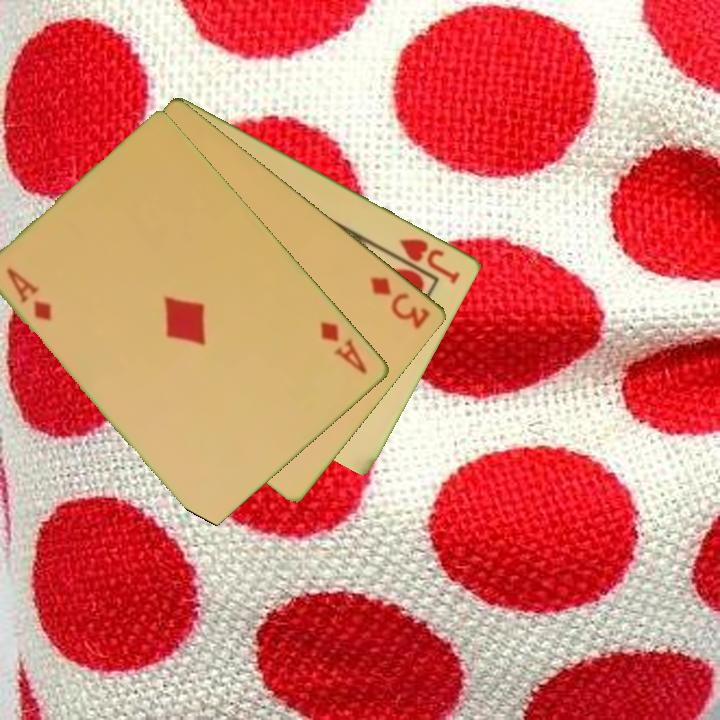3d: (366, 272, 434, 332)
Ad: (317, 317, 371, 378), (3, 264, 56, 324)
Jh: (395, 234, 464, 287)
